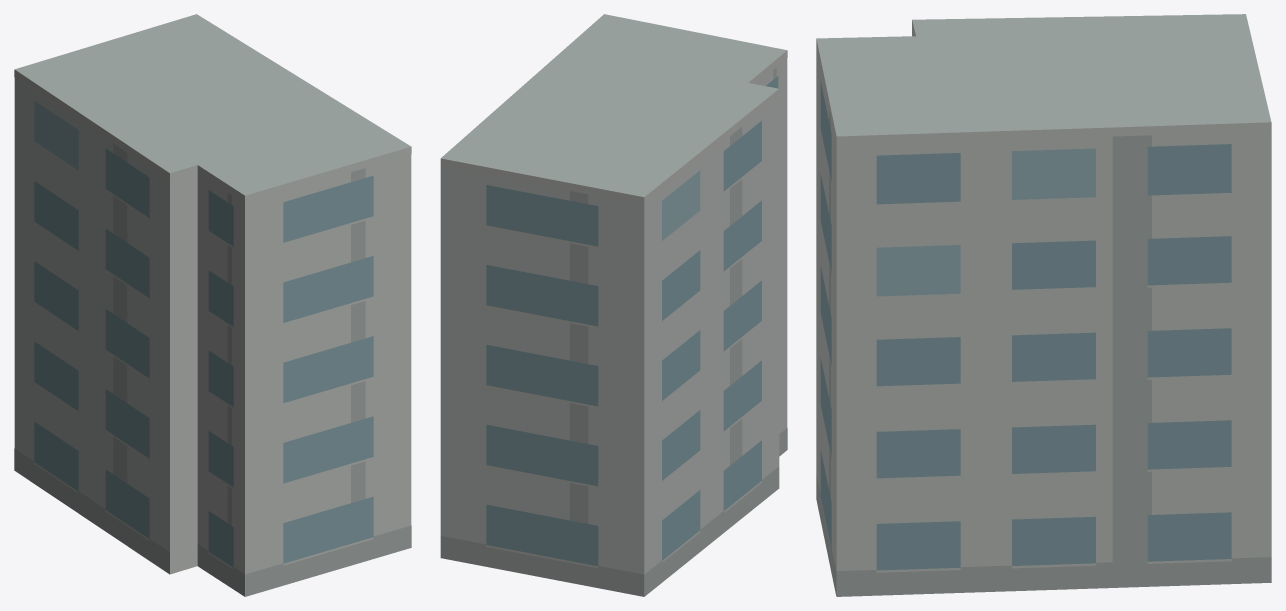
File: survey-upis-32614179.glb
3 views of the same model, side by side, from view 1: azimuth 30°, elevation 25°; view 2: azimuth 150°, elevation 25°; view 3: azimuth 270°, elevation 25° (orthographic). The views are drawn at different scales.
Visible parts, largest first — view 1: survey-upis-32614179.tmp; view 2: survey-upis-32614179.tmp; view 3: survey-upis-32614179.tmp.
Part boxes in pixels (<box>): survey-upis-32614179.tmp: <box>14,14,411,596</box>; survey-upis-32614179.tmp: <box>440,14,787,596</box>; survey-upis-32614179.tmp: <box>816,14,1271,596</box>.
Size of the model in its own units: 7.08 by 12.4 by 11.12.
